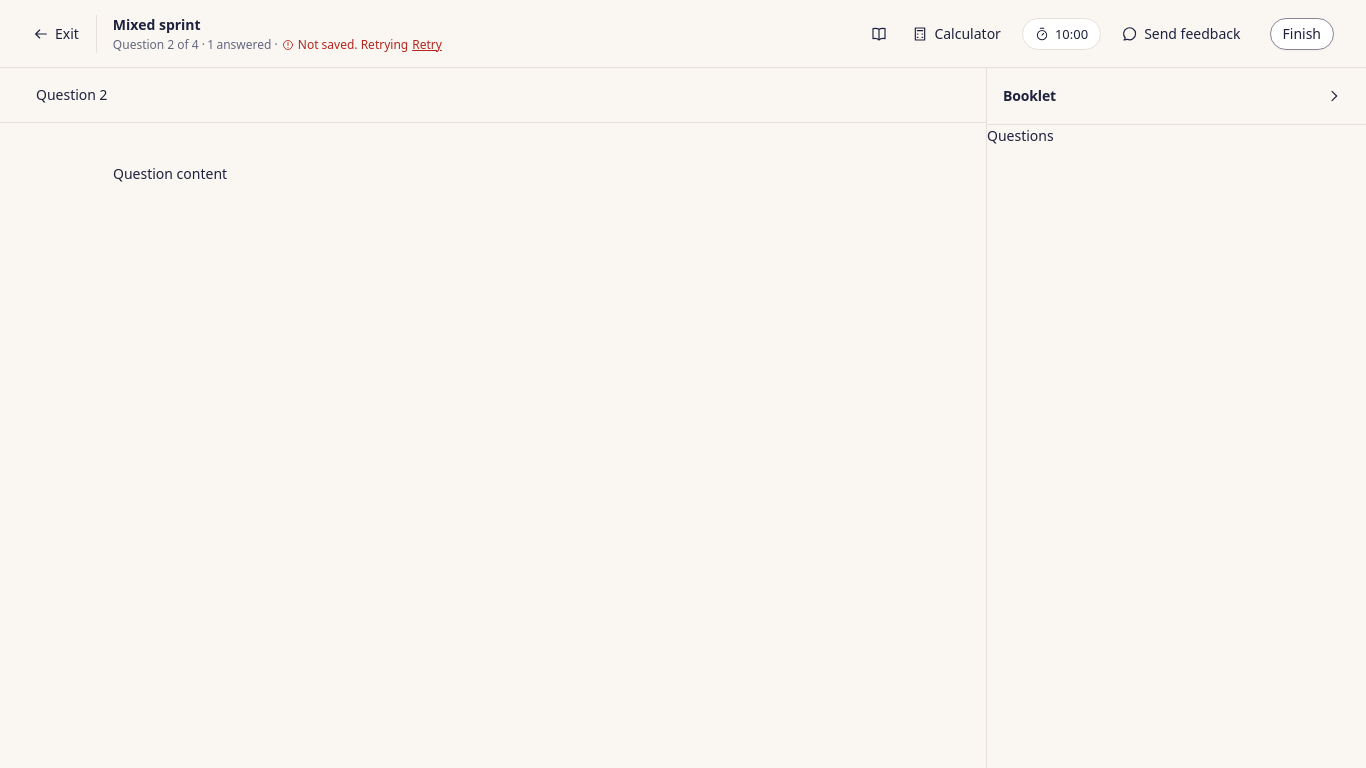
Scenario: opens the booklet sidebar on the right by default and collapses it
Click the button named "Collapse booklet".
click(1334, 96)  # box [1318,80,1350,112]
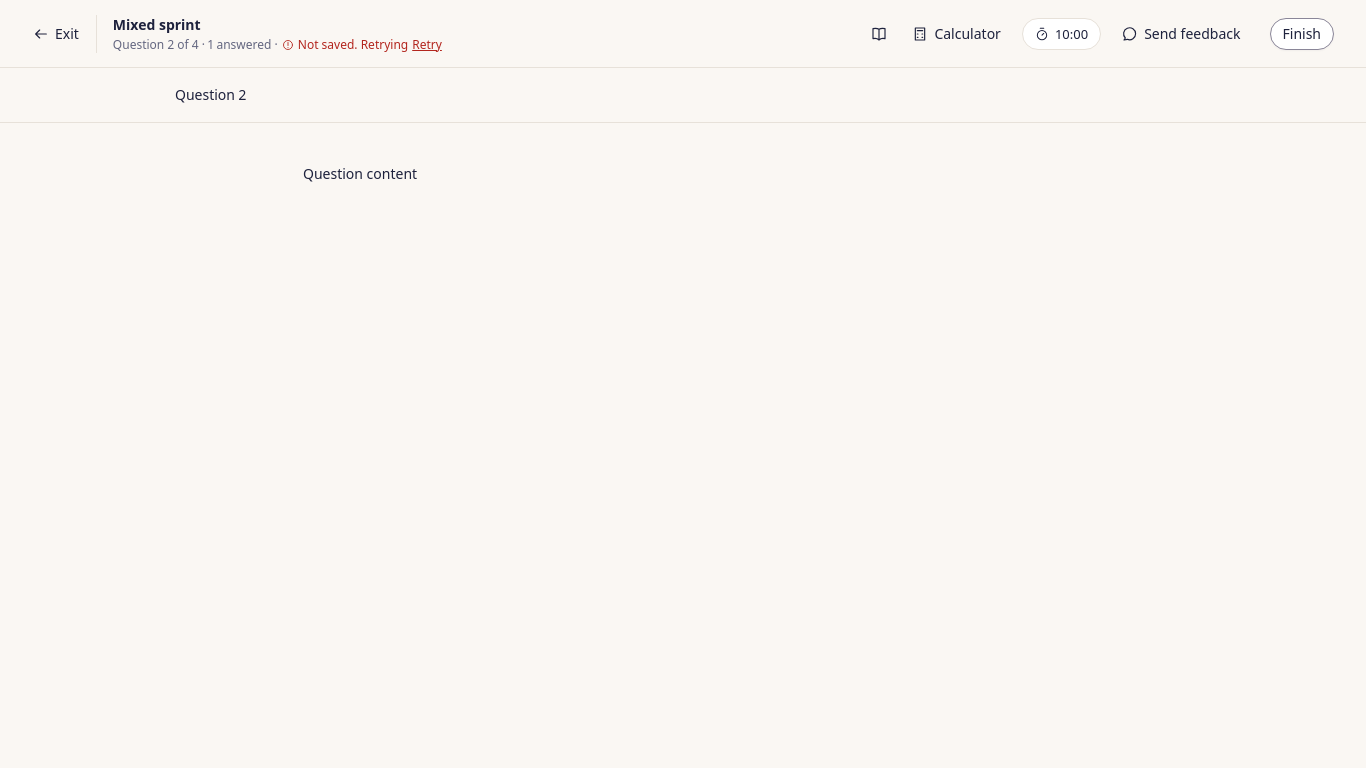
Result: the heading "Booklet" is gone
Click the button named "Booklet (B)".
click(879, 34)  # box [863,18,895,50]
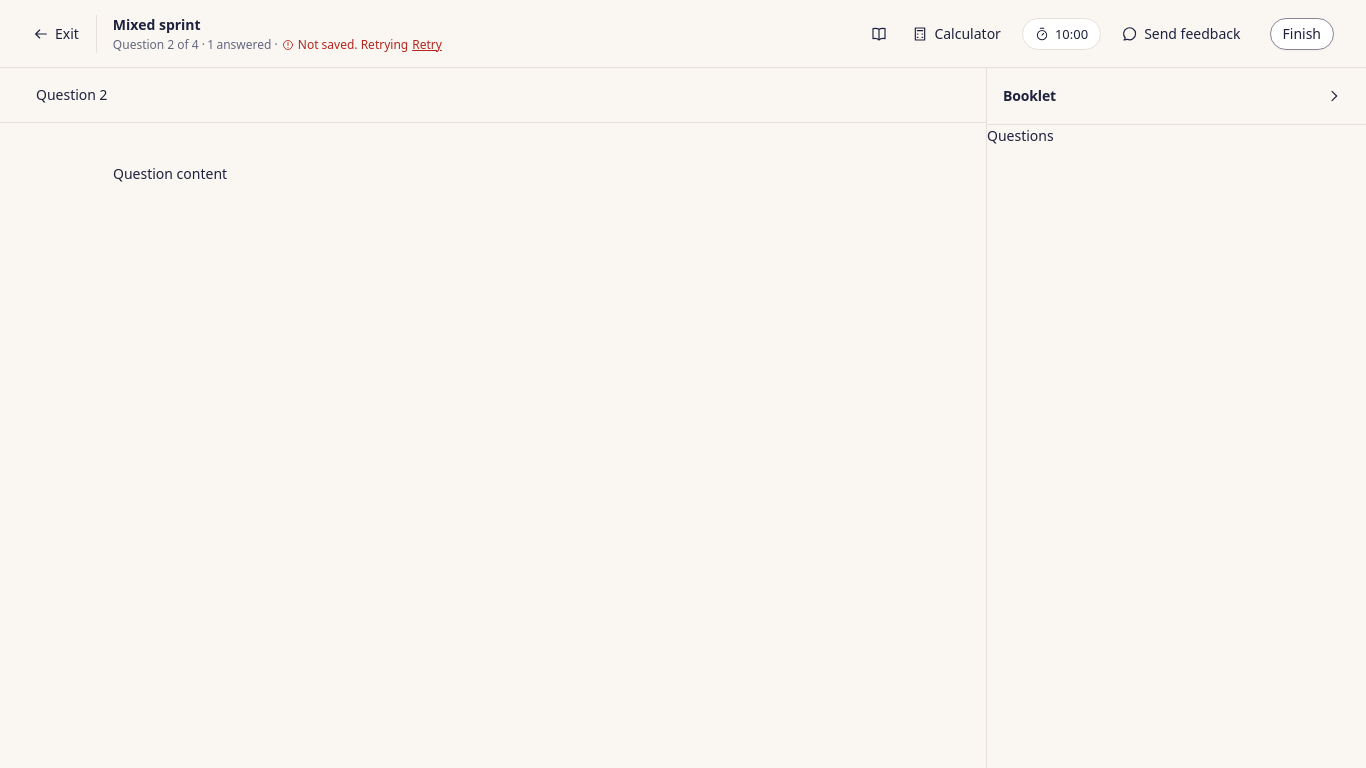
Result: the element "Booklet" is shown at [986,68,1365,767]
